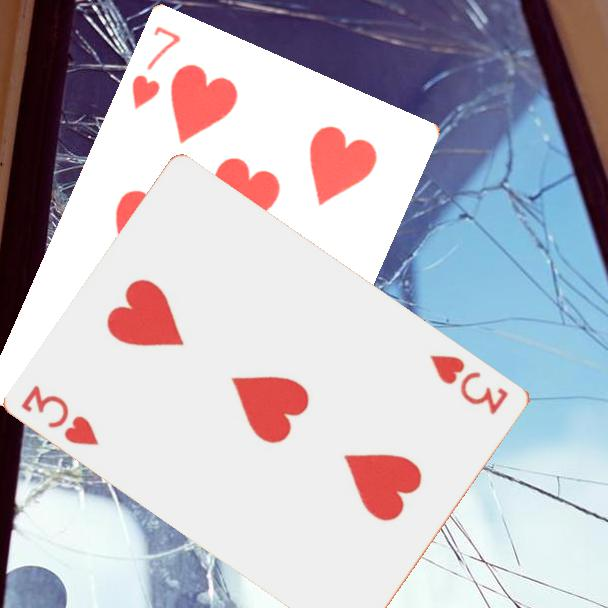h03: (18, 381, 103, 449), (426, 351, 512, 418)
h07: (127, 21, 184, 112)
